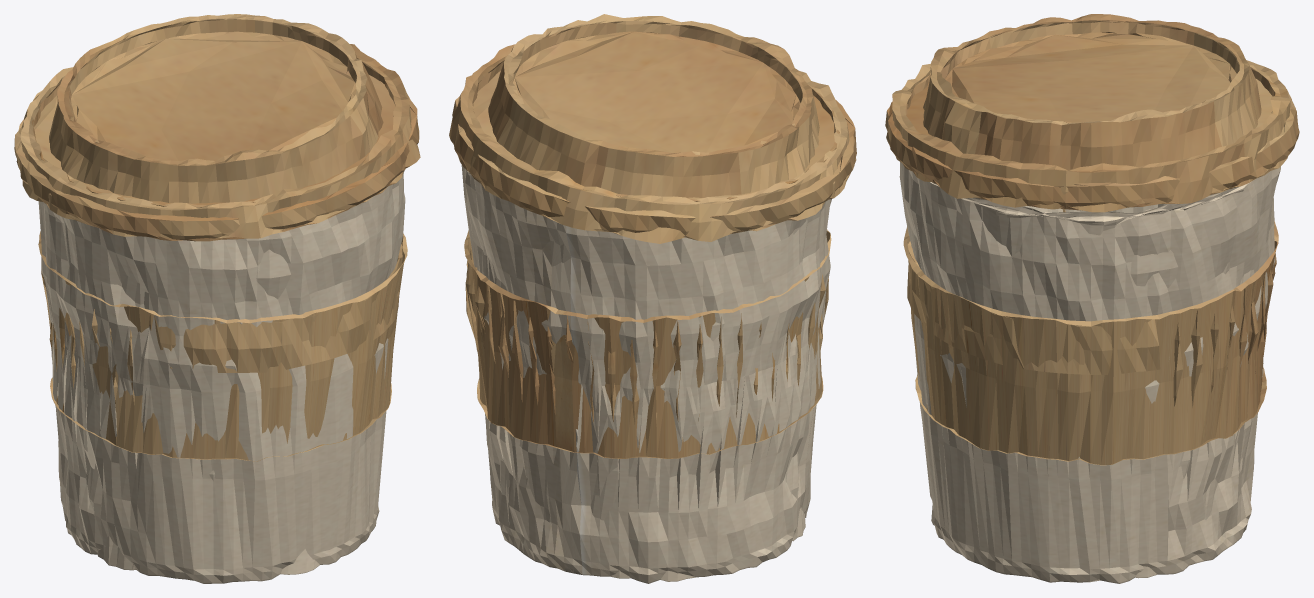
The model's file is crush_low_1.obj.
The picture shows the model from 3 angles, left to right: view 1: azimuth 30°, elevation 25°; view 2: azimuth 150°, elevation 25°; view 3: azimuth 270°, elevation 25°; orthographic projection. The views are drawn at different scales.
Parts seen in each view (by area): view 1: model; view 2: model; view 3: model.
Boxes of the visible parts, x1,y1,x2,y2 form: model: [14, 14, 420, 583]; model: [449, 14, 856, 583]; model: [885, 14, 1299, 583].
Size of the model in its own units: 0.0705 by 0.086 by 0.0699.
Materials: 1 (1 with a texture image).
